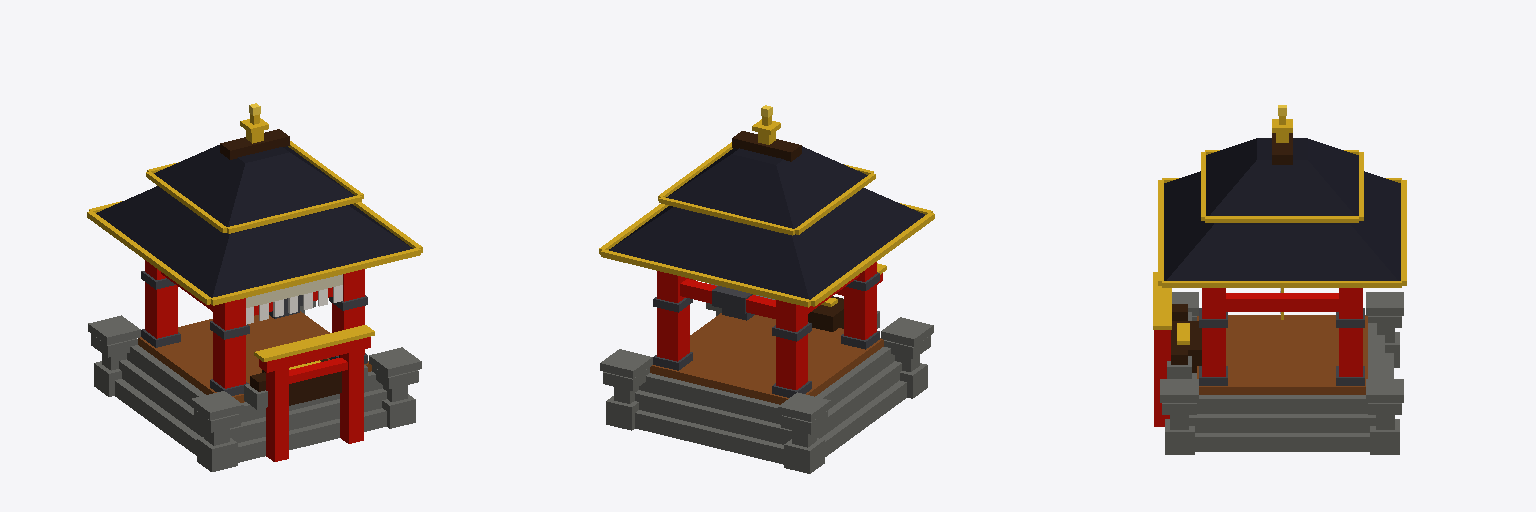
The model's file is basic_t3.obj.
The picture shows the model from 3 angles: view 1: azimuth 30°, elevation 25°; view 2: azimuth 150°, elevation 25°; view 3: azimuth 270°, elevation 25°; orthographic projection.
Size of the model in its own units: 29.1 by 38.5 by 29.65.